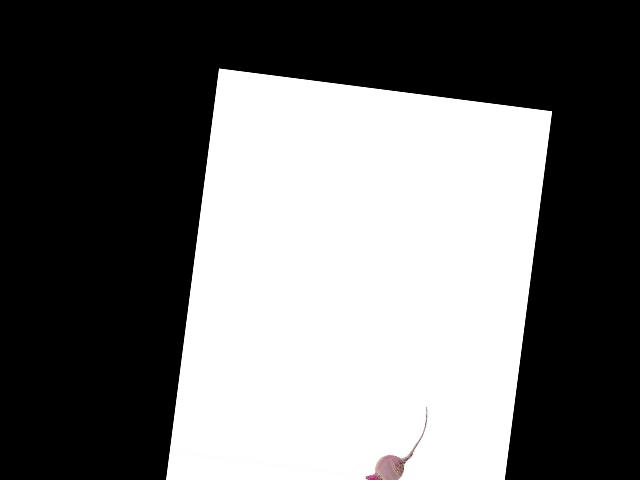beet: (364, 399, 429, 480)
